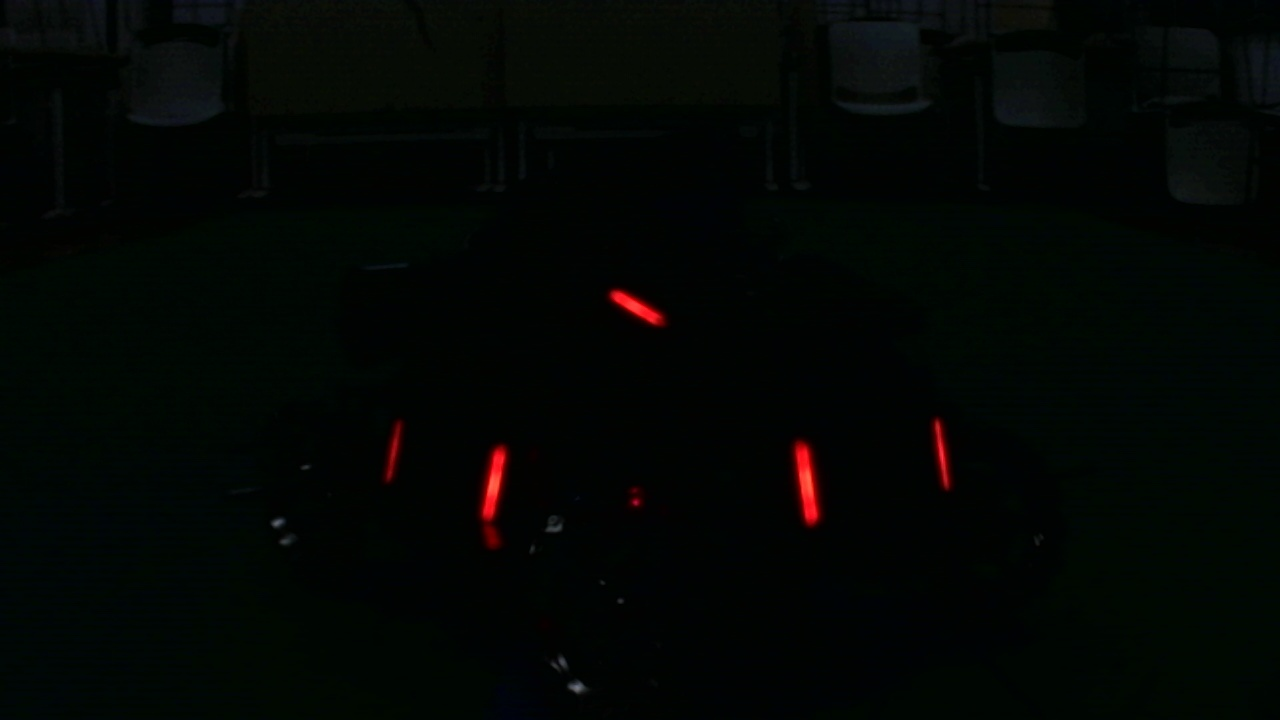lamp: (790, 437, 819, 526), (480, 439, 509, 527), (929, 413, 949, 491)
notpair1: (479, 436, 817, 537)
pair1: (796, 419, 951, 530)
